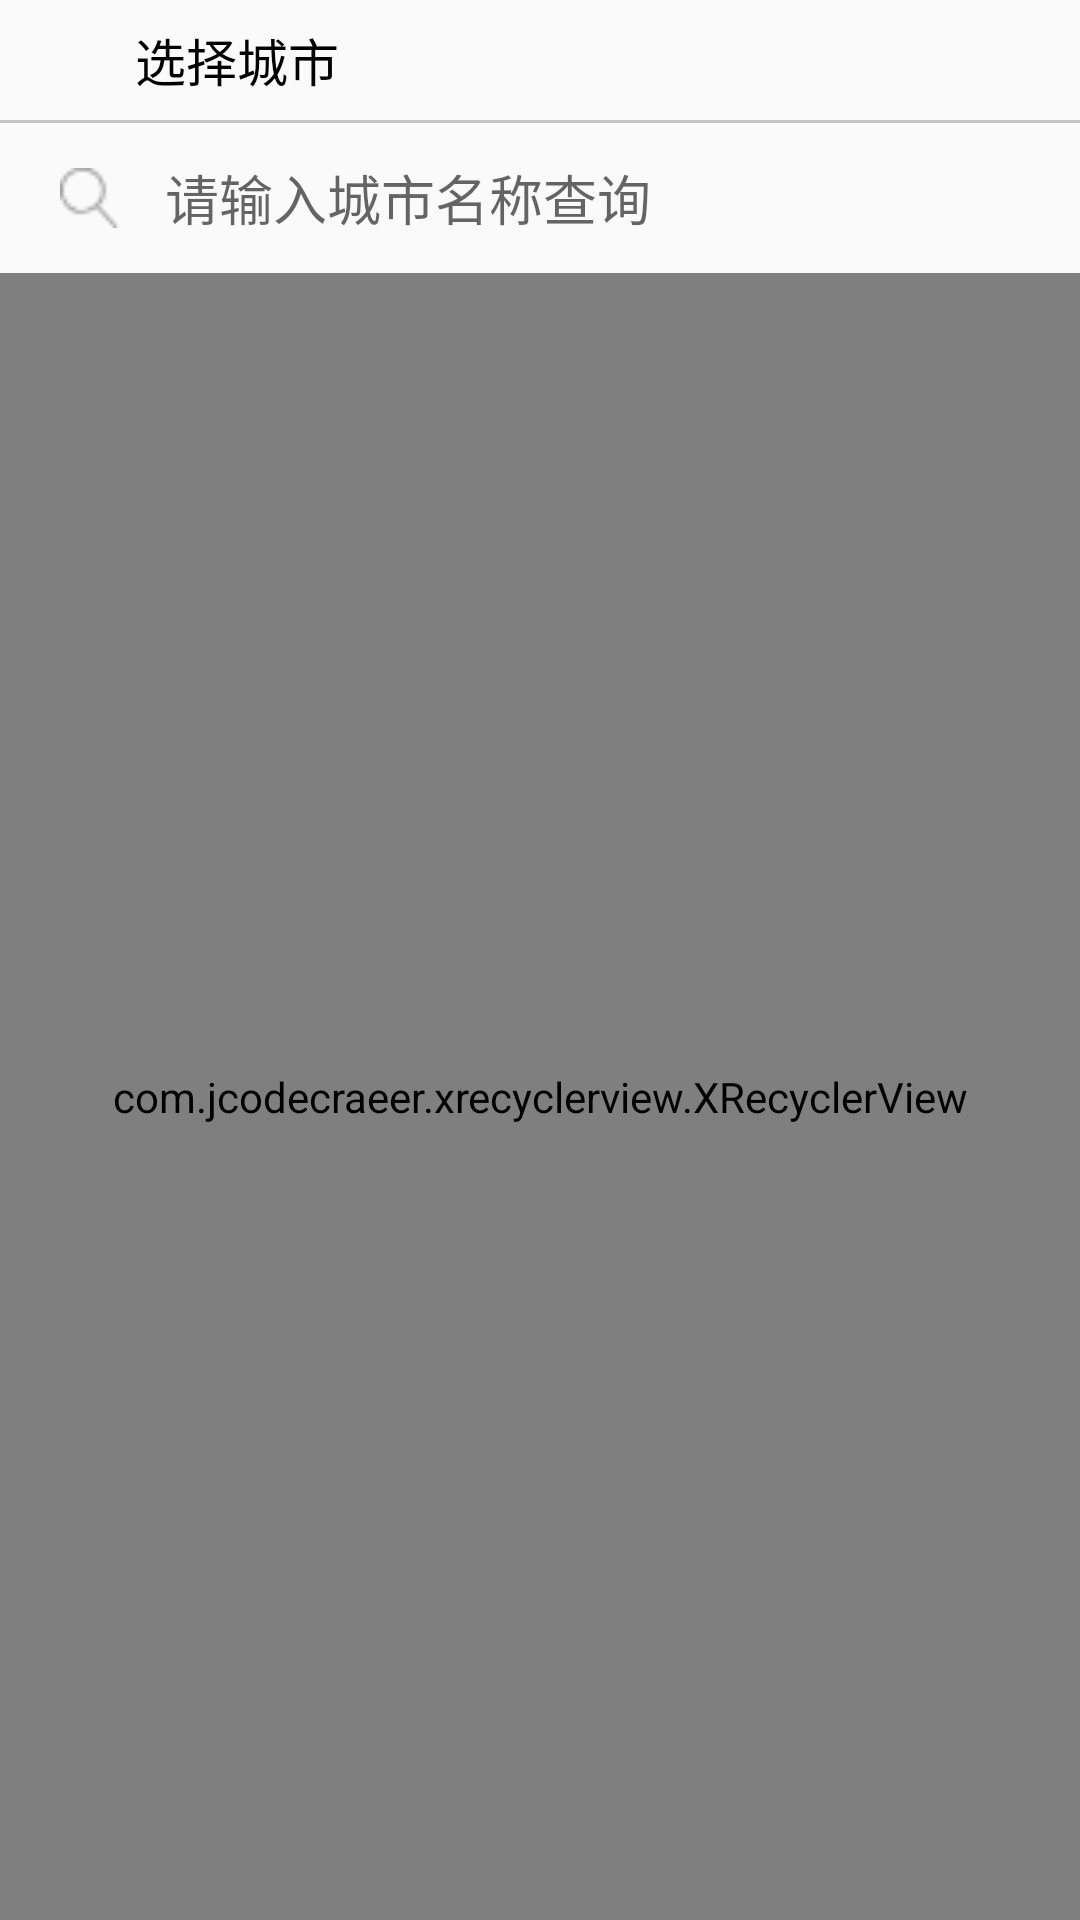

Where icons sit on this 1080x1920 app screen, as bbox=(x1, y1, x2, y2):
search: bbox=(60, 168, 117, 228)
